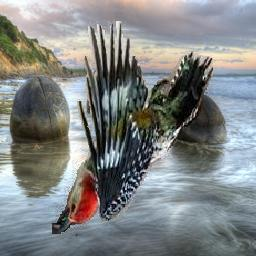Woodpecker: (53, 22, 214, 235)
